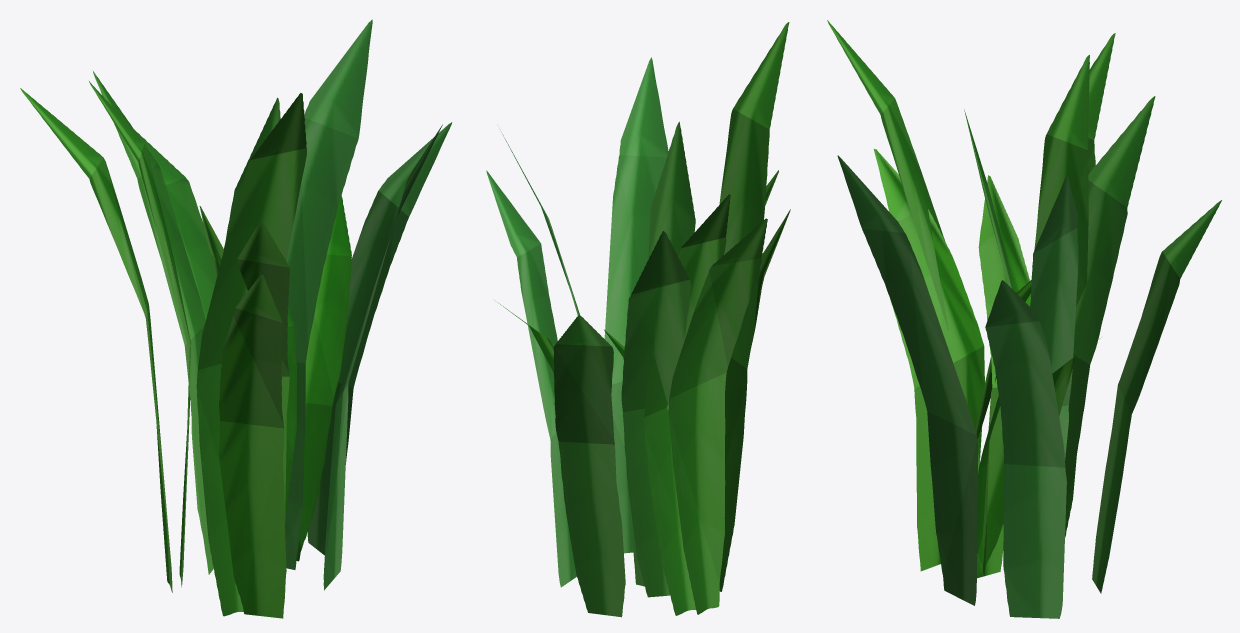
File: grasscollection.fbx
3 renders of one model, left to right at view 1: azimuth 30°, elevation 25°; view 2: azimuth 150°, elevation 25°; view 3: azimuth 270°, elevation 25°, orthographic. The views are drawn at different scales.
Parts seen in each view (by area): view 1: grass_co03.001, grass_co03, grass_co05, grass04; view 2: grass_co03.001, grass_co03, grass_co05, grass04; view 3: grass_co03.001, grass_co05, grass_co03, grass01, grass04, grass02.
Part boxes in pixels (x1=…): grass_co03.001: x1=89, y1=81, x2=452, y2=618; grass_co03: x1=20, y1=19, x2=372, y2=616; grass_co05: x1=93, y1=71, x2=442, y2=590; grass04: x1=224, y1=97, x2=280, y2=248; grass_co03.001: x1=486, y1=170, x2=790, y2=617; grass_co03: x1=501, y1=22, x2=789, y2=614; grass_co05: x1=497, y1=57, x2=778, y2=597; grass04: x1=632, y1=121, x2=695, y2=586; grass_co03.001: x1=890, y1=55, x2=1221, y2=618; grass_co05: x1=837, y1=96, x2=1155, y2=605; grass_co03: x1=827, y1=20, x2=1115, y2=459; grass01: x1=978, y1=175, x2=1030, y2=575; grass04: x1=964, y1=110, x2=1013, y2=290; grass02: x1=975, y1=280, x2=1031, y2=576.
Bounding box in the file's own units: 46.44 × 68.67 × 45.35.
Materials: 1 (1 with a texture image).
